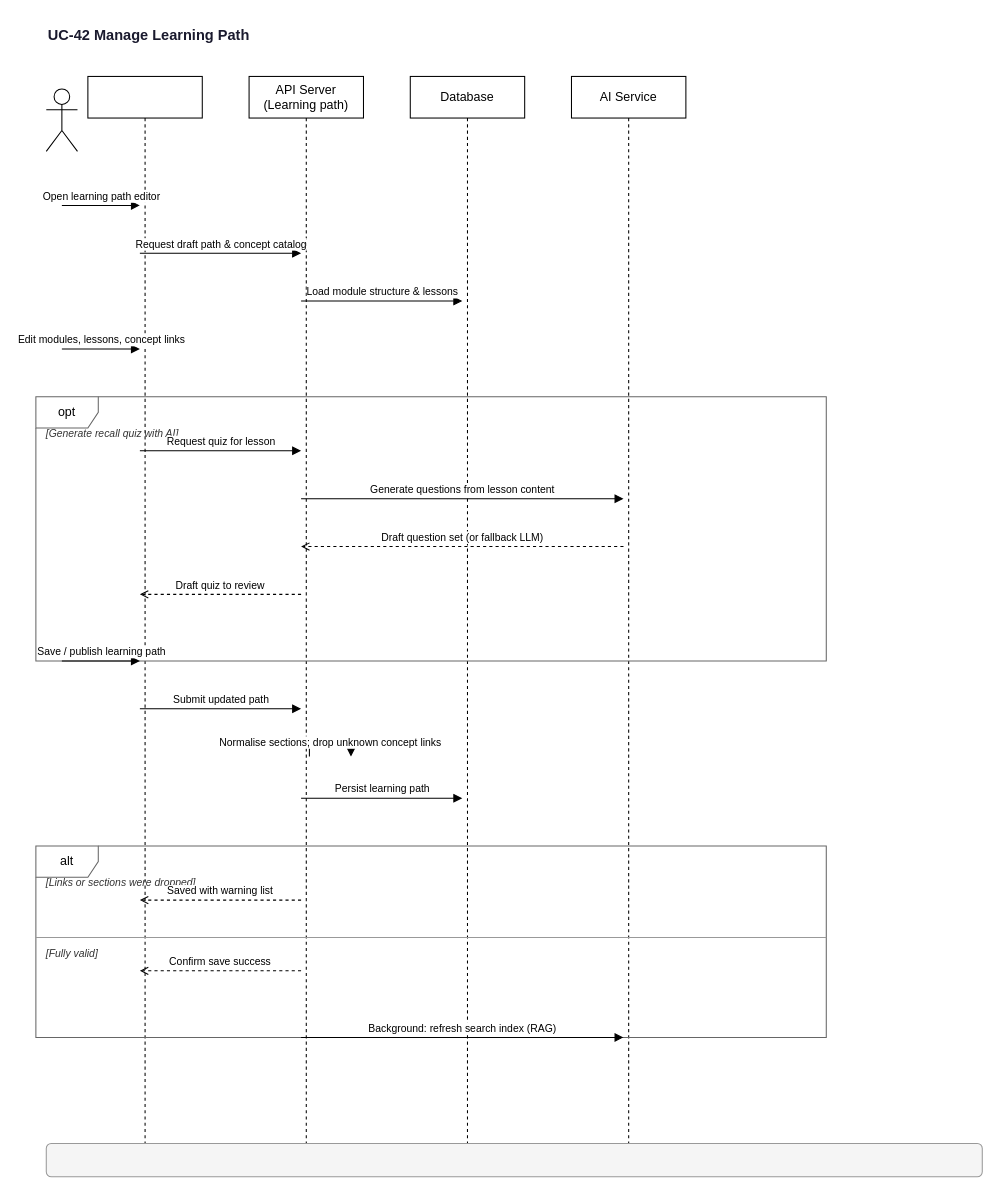
Image size: 1000x1195. Some labels were removed from this diagram. The shapes that lost their labels are listed below. From the top down, each one's box as (x1, y1, x2, y2) in pixels, then its label:
(45, 88, 77, 151): Teacher
(87, 75, 202, 1146): Web UI (Studio — LP)
(45, 1142, 982, 1177): Cosmo Learn — UC-42 Manage Learning Path
